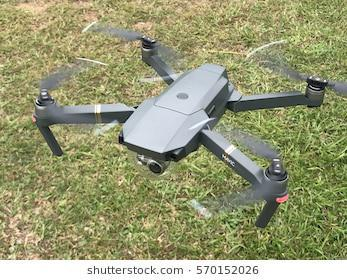drone: (33, 33, 347, 229)
